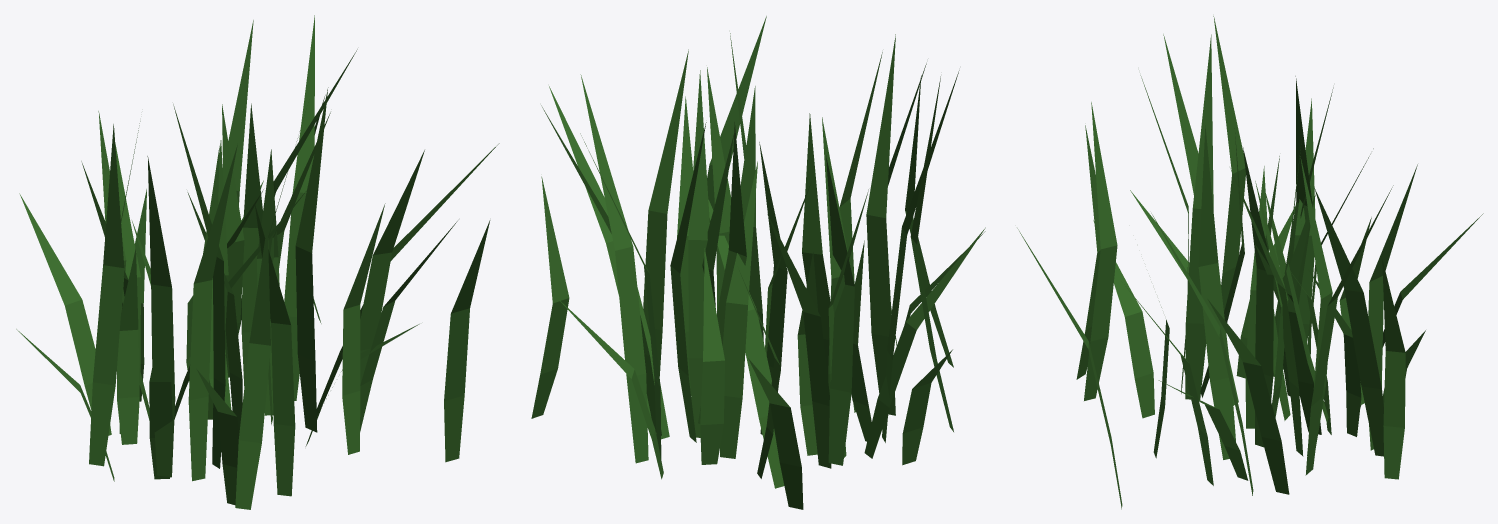
Rendered from PatchofGrass.fbx.
3 renders of one model, left to right at view 1: azimuth 30°, elevation 25°; view 2: azimuth 150°, elevation 25°; view 3: azimuth 270°, elevation 25°, orthographic. The views are drawn at different scales.
Visible parts, largest first — view 1: Gras 1; view 2: Gras 1; view 3: Gras 1.
Part boxes in pixels (x1=…): Gras 1: x1=16, y1=15, x2=499, y2=509; Gras 1: x1=531, y1=16, x2=985, y2=509; Gras 1: x1=1017, y1=16, x2=1483, y2=509.
Size of the model in its own units: 351 by 302 by 338.
